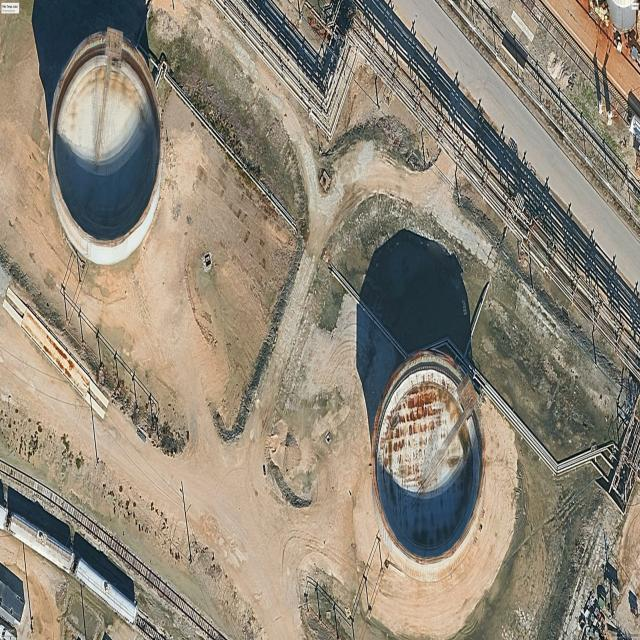Oil Rafinery: (46, 27, 164, 264), (372, 350, 485, 581)
